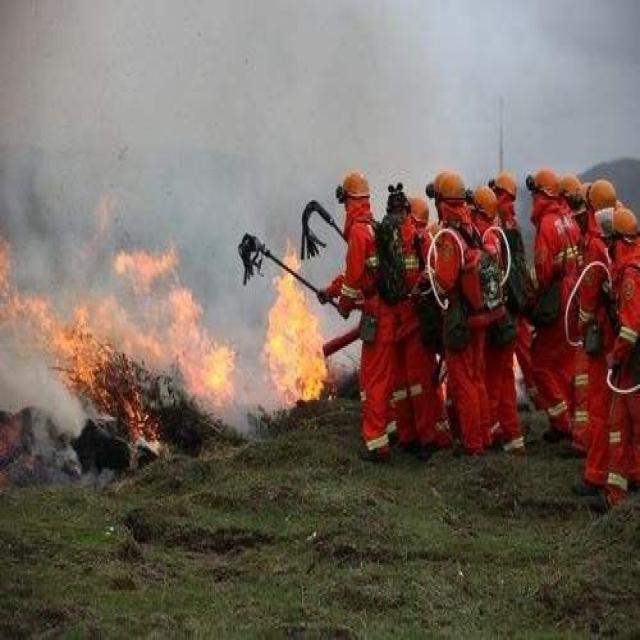fire: (2, 204, 236, 446), (256, 244, 337, 411)
other: (330, 153, 637, 498)
smoke: (44, 24, 612, 158)
